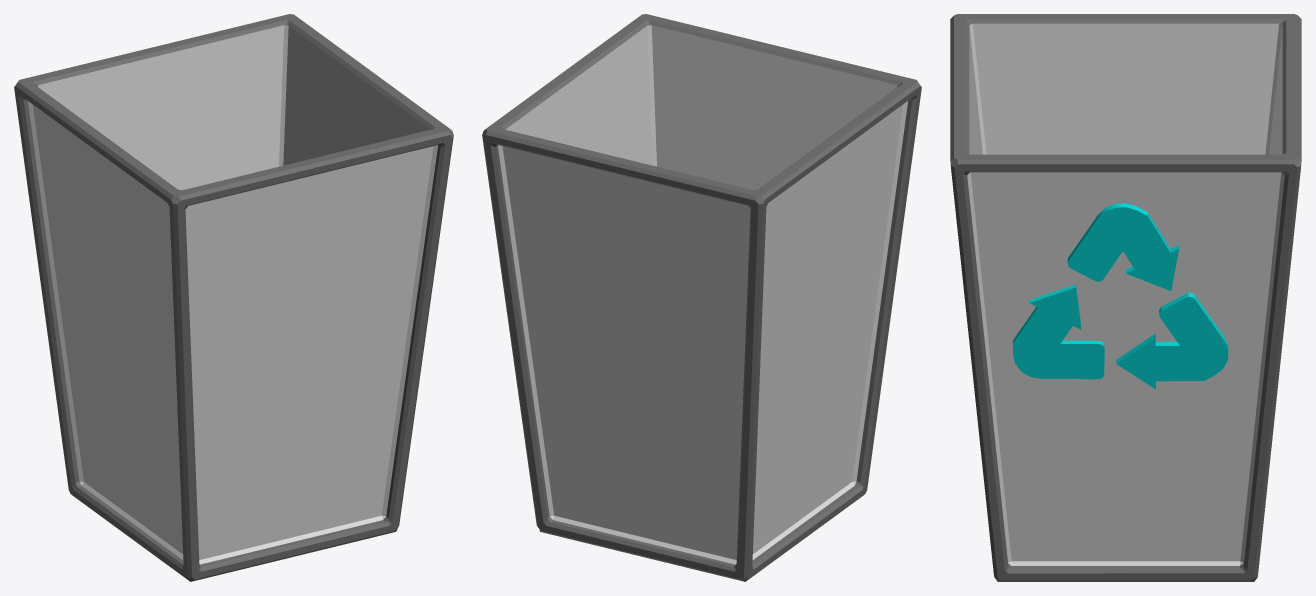
The model's file is Recycle_Bin.fbx.
3 views of the same model, side by side, from view 1: azimuth 30°, elevation 25°; view 2: azimuth 150°, elevation 25°; view 3: azimuth 270°, elevation 25° (orthographic). The views are drawn at different scales.
Parts seen in each view (by area): view 1: Recycle_Bin_; view 2: Recycle_Bin_; view 3: Recycle_Bin_.
Boxes of the visible parts, bbox=[...] form: Recycle_Bin_: bbox=[14, 14, 453, 581]; Recycle_Bin_: bbox=[482, 14, 921, 581]; Recycle_Bin_: bbox=[950, 14, 1301, 581].
Bounding box in the file's own units: 4.45 × 6.16 × 4.45.
